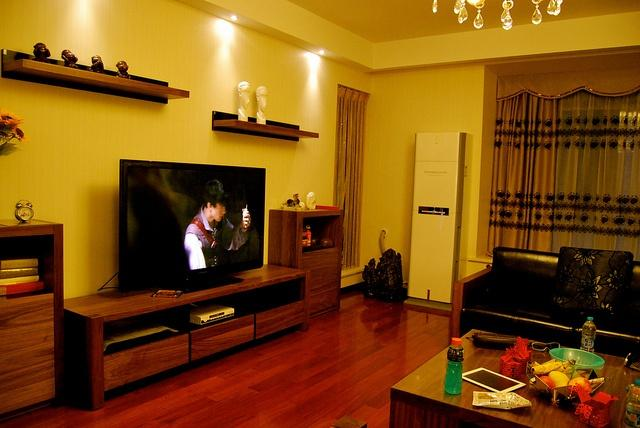AIO PC-Monitor-TV: (116, 158, 266, 295)
Meja: (388, 327, 639, 427)
